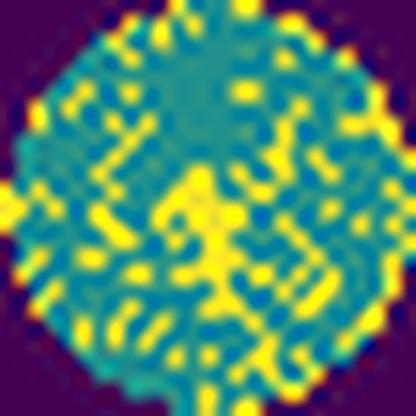Center: (152, 164, 255, 330)
